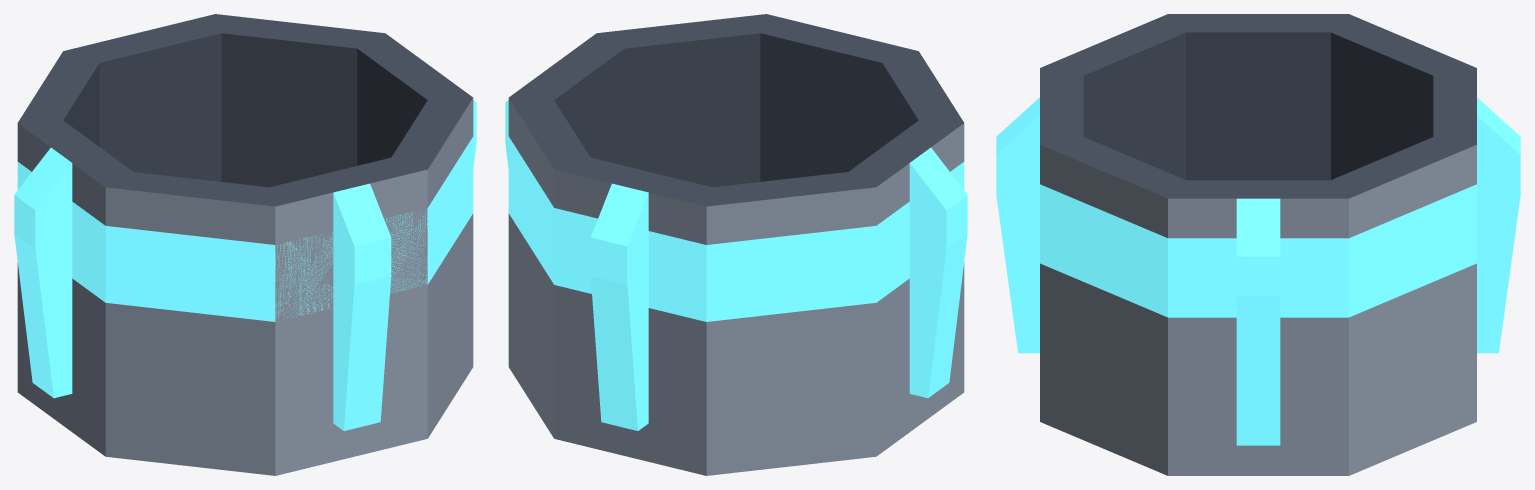
File: rocket_finsB.glb
The picture shows the model from 3 angles, left to right: view 1: azimuth 30°, elevation 25°; view 2: azimuth 150°, elevation 25°; view 3: azimuth 270°, elevation 25°; orthographic projection. The views are drawn at different scales.
Visible parts, largest first — view 1: rocket_finsB; view 2: rocket_finsB; view 3: rocket_finsB.
Part boxes in pixels (bbox=[...]): rocket_finsB: bbox=[14, 14, 476, 475]; rocket_finsB: bbox=[505, 14, 967, 475]; rocket_finsB: bbox=[996, 14, 1520, 475].
Size of the model in its own units: 1.2 by 0.7 by 1.2.
